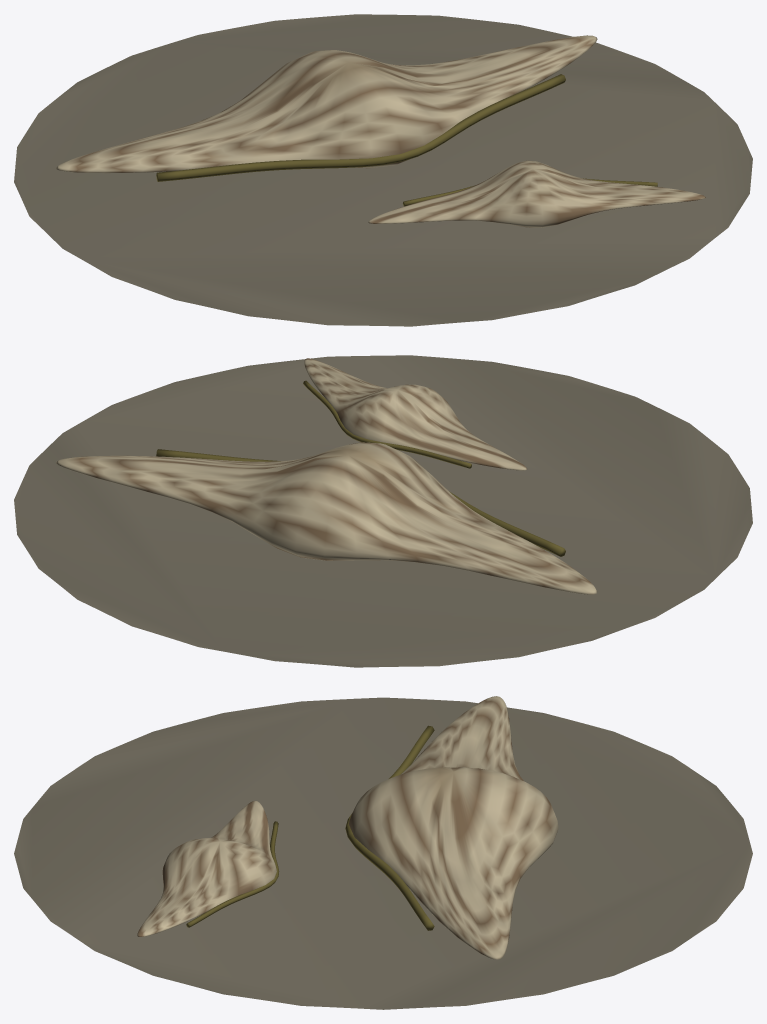
File: Shikamaia.fbx
The picture shows the model from 3 angles, top to bottom: view 1: azimuth 30°, elevation 25°; view 2: azimuth 150°, elevation 25°; view 3: azimuth 270°, elevation 25°; orthographic projection.
Visible parts, largest first — view 1: Shikamaia; view 2: Shikamaia; view 3: Shikamaia.
Boxes of the visible parts, left/top/right/bottom form: Shikamaia: left=14, top=14, right=752, bottom=326; Shikamaia: left=14, top=355, right=752, bottom=667; Shikamaia: left=14, top=696, right=752, bottom=1009.
Size of the model in its own units: 1.9 by 0.232 by 1.9.
